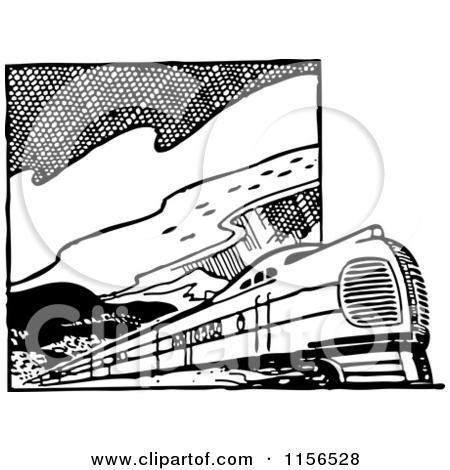train: (23, 219, 433, 387)
